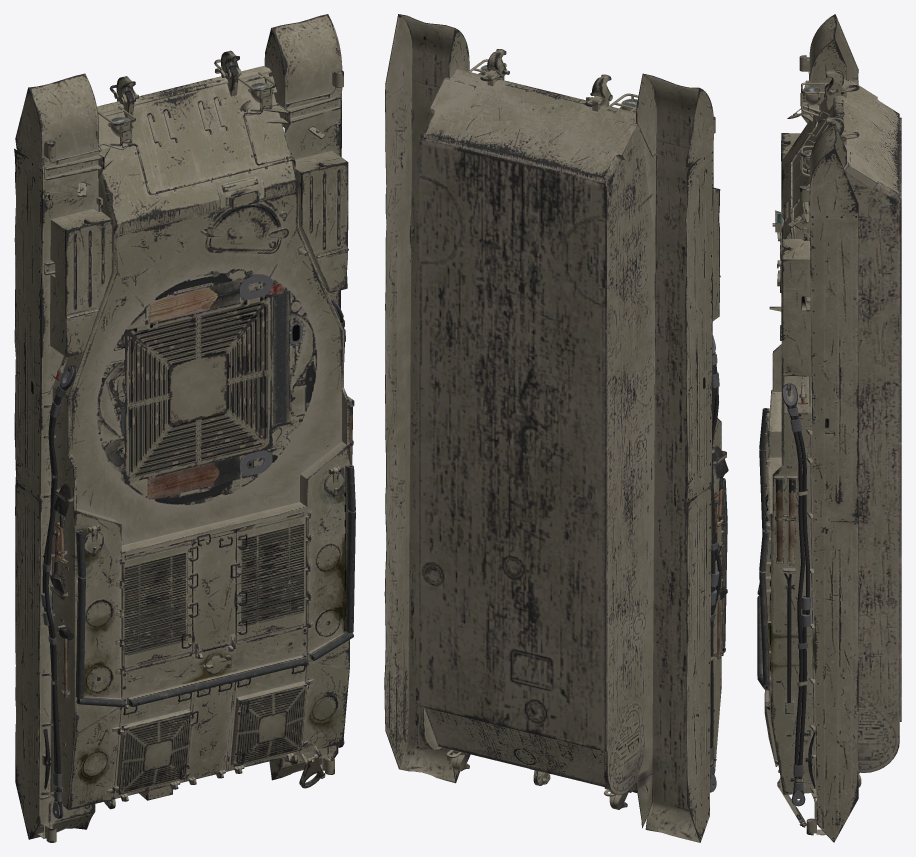
Rendered from Hull.glb.
3 renders of one model, left to right at view 1: azimuth 30°, elevation 25°; view 2: azimuth 150°, elevation 25°; view 3: azimuth 270°, elevation 25°, orthographic. The views are drawn at different scales.
Parts seen in each view (by area): view 1: set_0_group_0; view 2: set_0_group_0; view 3: set_0_group_0.
Boxes of the visible parts, box(x1,y1,x2,y2) form: set_0_group_0: box(14, 14, 355, 842); set_0_group_0: box(384, 14, 728, 842); set_0_group_0: box(757, 14, 901, 842).
Bounding box in the file's own units: 3.2 × 7.59 × 1.42.
1 material, 1 textured.
